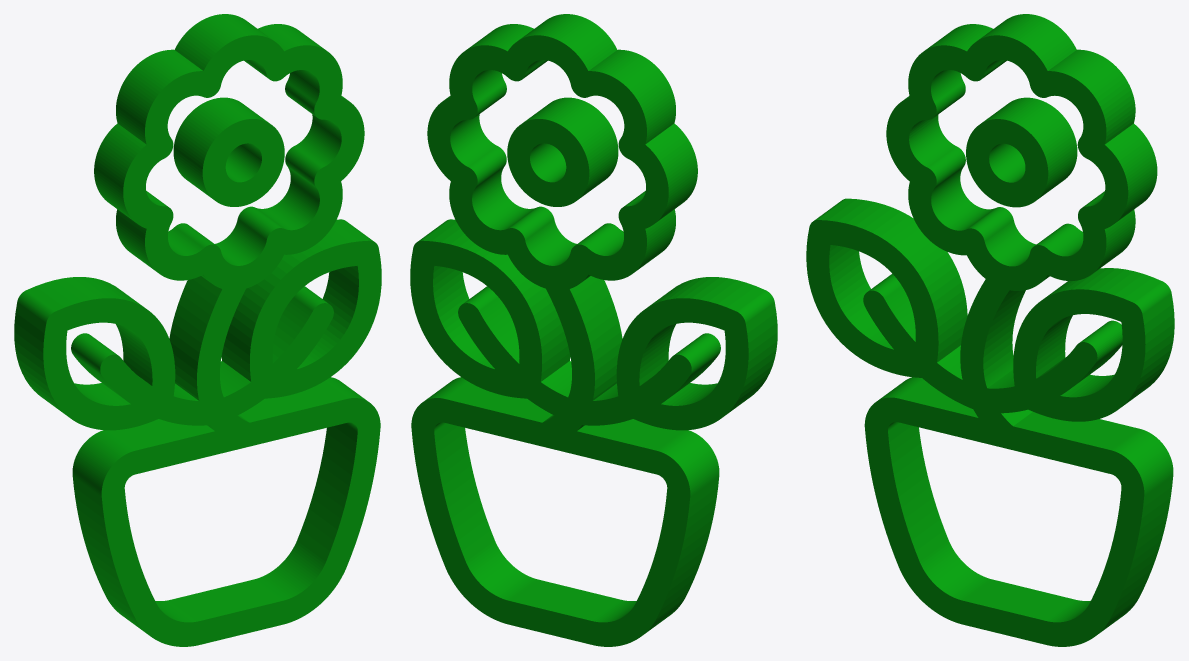
The model's file is flower.gltf.
The picture shows the model from 3 angles, left to right: view 1: azimuth 30°, elevation 25°; view 2: azimuth 150°, elevation 25°; view 3: azimuth 330°, elevation 25°; orthographic projection.
Visible parts, largest first — view 1: Curve.010; view 2: Curve.010; view 3: Curve.010.
Part boxes in pixels (x1,y1,x2,y2): Curve.010: [14, 14, 381, 646]; Curve.010: [410, 14, 777, 646]; Curve.010: [806, 14, 1174, 646].
Size of the model in its own units: 20.75 by 35.01 by 3.09.
